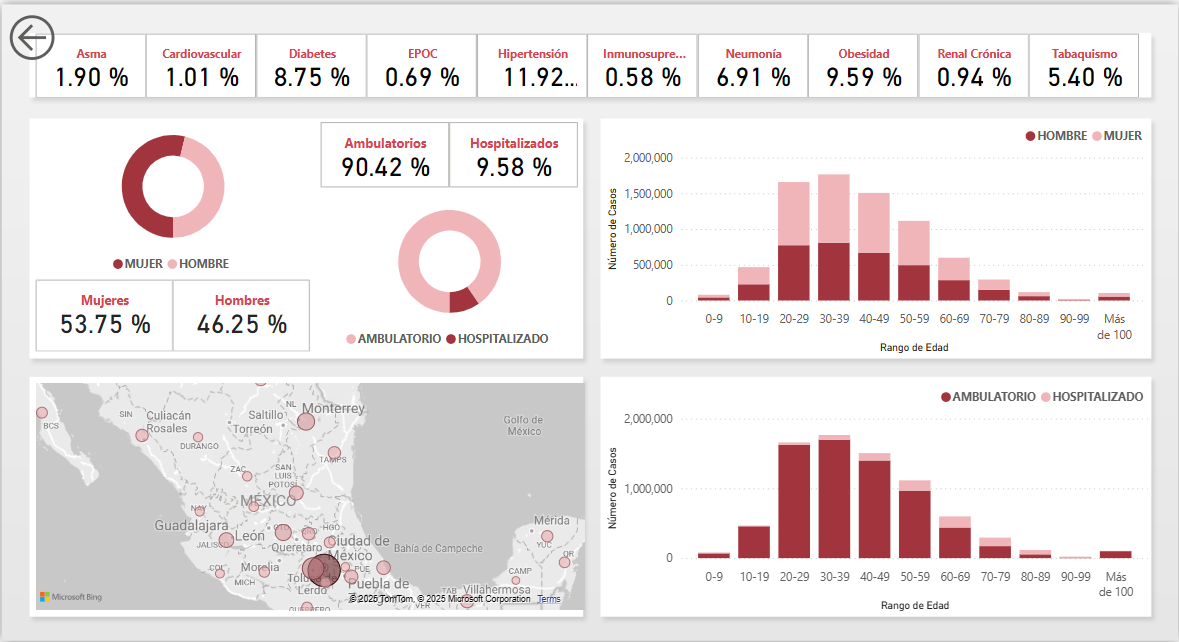

The page's visual inventory and layout, read from the dashboard file:
{"tool":"powerbi","page":{"name":"Confirmados","canvas":[1280,720],"ordinal":1},"visuals":[{"type":"cardVisual","fields":{"Data":["% Confirmados.% Asma Confirmados","% Confirmados.% Cardiovascular Confirmados","% Confirmados.% Diabetes Confirmados","% Confirmados.% EPOC Confirmados","% Confirmados.% Hipertension Confirmados","% Confirmados.% Inmunosupresion Confirmados","% Confirmados.% Neumonia Confirmados","% Confirmados.% Obesidad Confirmados","% Confirmados.% Renal Cronica Confirmados","% Confirmados.% Tabaquismo Confirmados"]},"box":[57.9,49.1,1168.4,77.2],"z":0},{"type":"map","fields":{"Category":["T_ENTIDADES.ENTIDAD_FEDERATIVA"],"Size":["Acumulados.Confirmados Acumulados"]},"box":[57.9,412.3,582.5,247.4],"z":1000},{"type":"columnChart","fields":{"Category":["public covid19datos.Rango de Edad"],"Y":["Acumulados.Confirmados Acumulados"],"Series":["T_SEXO.DESCRIPCIÓN"]},"box":[652.6,140.4,571.9,250.9],"z":2000},{"type":"columnChart","fields":{"Category":["public covid19datos.Rango de Edad"],"Y":["Acumulados.Confirmados Acumulados"],"Series":["T_TIPOPACIENTE.DESCRIPCIÓN"]},"box":[652.6,412.3,573.7,247.4],"z":3000},{"type":"donutChart","fields":{"Y":["Acumulados.Confirmados Acumulados"],"Category":["T_SEXO.DESCRIPCIÓN"]},"box":[57.9,140.4,296.5,171.9],"z":4000},{"type":"donutChart","fields":{"Y":["Acumulados.Confirmados Acumulados"],"Category":["T_TIPOPACIENTE.DESCRIPCIÓN"]},"box":[354.4,219.3,278.9,171.9],"z":5000},{"type":"cardVisual","fields":{"Data":["% Confirmados.% Ambulatorio Confirmados","% Confirmados.% Hospitalizados Confirmados"]},"box":[354.4,140.4,278.9,78.9],"z":6000},{"type":"cardVisual","fields":{"Data":["% Confirmados.% Mujeres Confirmadas","% Confirmados.% Hombres Confirmadas"]},"box":[57.9,305.3,296.5,86],"z":7000},{"type":"actionButton","box":[29.8,28.1,114,59.6],"z":8000}]}

Visuals, with their boxes on the page's 1280x720 design canvas (x1, y1, x2, y2). These are canvas units, not pixel positions in the 1179x642 screenshot, which may show the page scaled, cropped or inside an application window:
cardVisual - % Confirmados.% Asma Confirmados x % Confirmados.% Cardiovascular Confirmados: [58, 49, 1226, 126]
map - T_ENTIDADES.ENTIDAD_FEDERATIVA x Acumulados.Confirmados Acumulados: [58, 412, 640, 660]
columnChart - public covid19datos.Rango de Edad x Acumulados.Confirmados Acumulados: [653, 140, 1224, 391]
columnChart - public covid19datos.Rango de Edad x Acumulados.Confirmados Acumulados: [653, 412, 1226, 660]
donutChart - Acumulados.Confirmados Acumulados x T_SEXO.DESCRIPCIÓN: [58, 140, 354, 312]
donutChart - Acumulados.Confirmados Acumulados x T_TIPOPACIENTE.DESCRIPCIÓN: [354, 219, 633, 391]
cardVisual - % Confirmados.% Ambulatorio Confirmados x % Confirmados.% Hospitalizados Confirmados: [354, 140, 633, 219]
cardVisual - % Confirmados.% Mujeres Confirmadas x % Confirmados.% Hombres Confirmadas: [58, 305, 354, 391]
actionButton: [30, 28, 144, 88]
